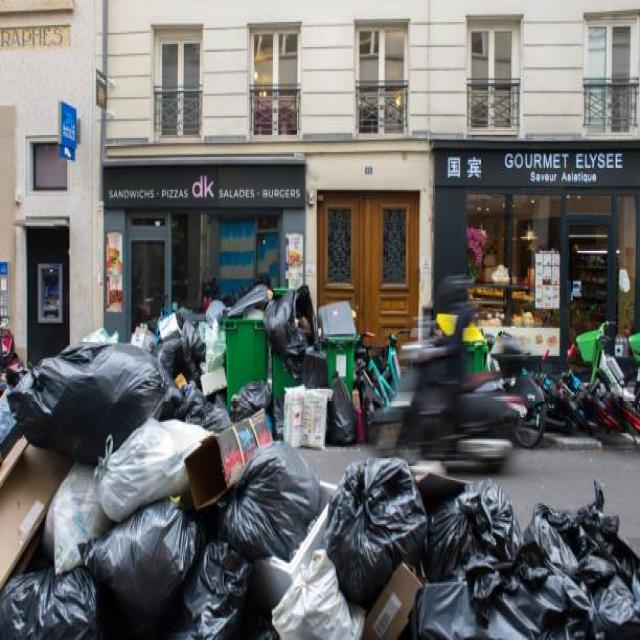trash: (6, 284, 613, 613)
